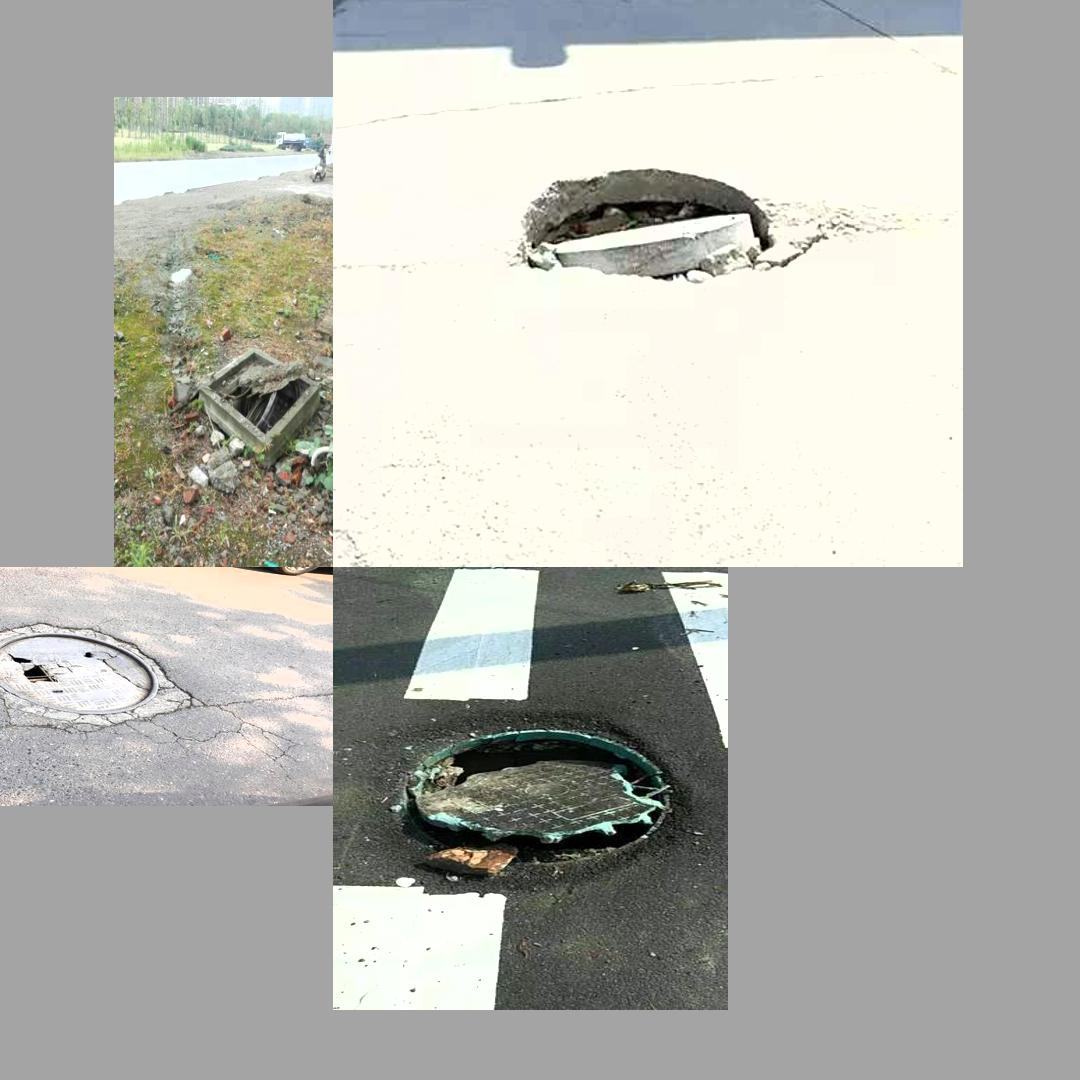broke: (468, 142, 827, 338), (346, 707, 715, 888), (0, 621, 192, 730), (198, 346, 319, 449)
